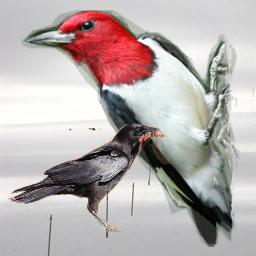Crow: (8, 119, 177, 232)
Woodpecker: (20, 10, 245, 247)
